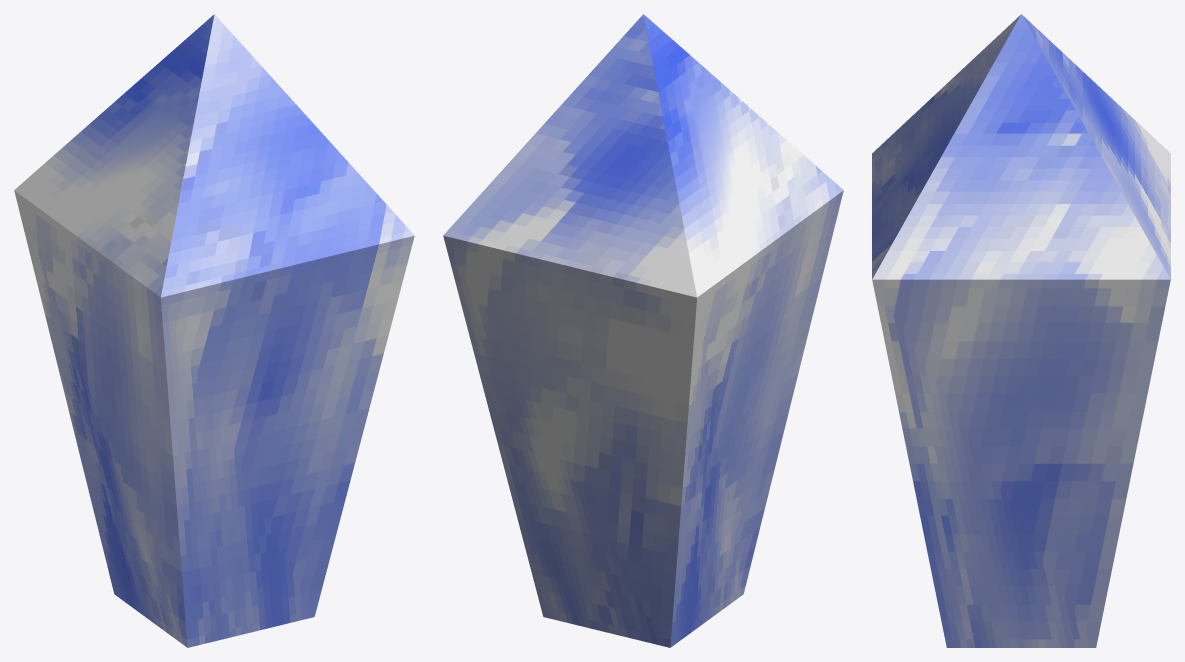
File: cristal.fbx
3 renders of one model, left to right at view 1: azimuth 30°, elevation 25°; view 2: azimuth 150°, elevation 25°; view 3: azimuth 270°, elevation 25°, orthographic.
Parts seen in each view (by area): view 1: Cube; view 2: Cube; view 3: Cube.
Part boxes in pixels (x1,y1,x2,y2): Cube: (14,14,414,647); Cube: (443,14,843,647); Cube: (872,14,1170,647).
Size of the model in its own units: 36.55 by 81.33 by 36.55.
1 material, 1 textured.
